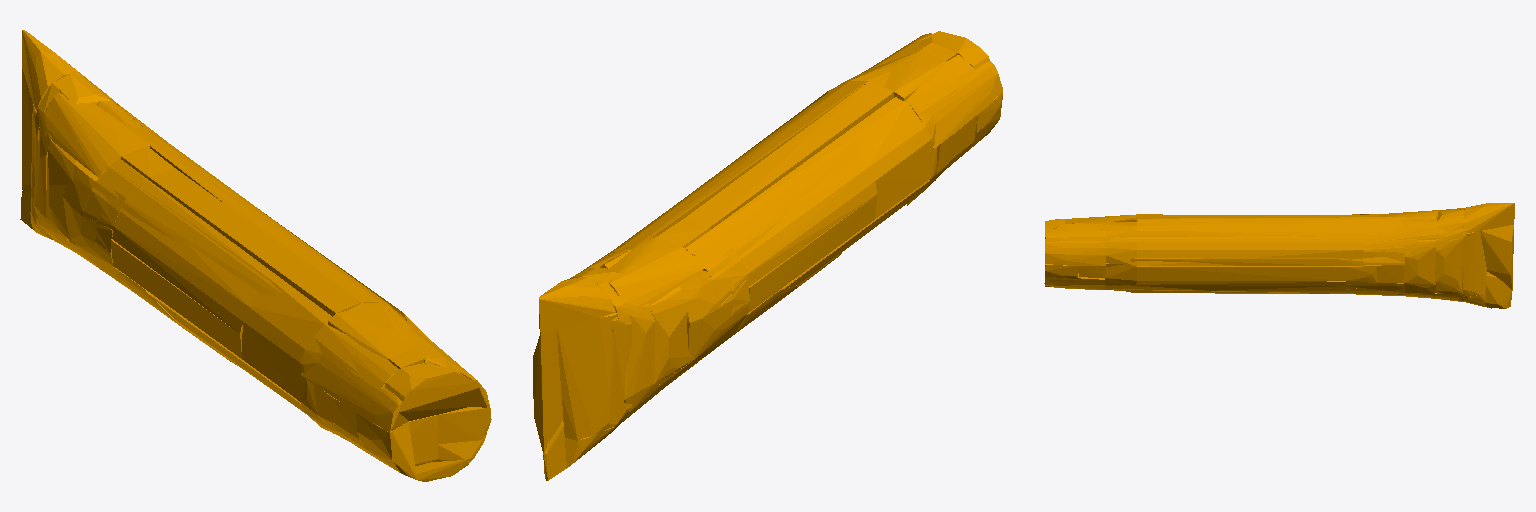
robot.urdf — tube-wasabi:
<?xml version="1.0" ?>
<robot name="tube-wasabi">
  <link name="baseLink">
    <contact>
      <lateral_friction value="1.0"/>
      <inertia_scaling value="3.0"/>
    </contact>
    <inertial>
      <origin rpy="0 0 0" xyz="0.000 0.000 0.000"/>
       <mass value=".1"/>
       <inertia ixx="1" ixy="0.0" ixz="0.0" iyy="1" iyz="0.0" izz="1"/>
    </inertial>
    <visual>
      <origin rpy="0 0 0" xyz="0 0 0"/>
      <geometry>
        <mesh filename="tube/tube-wasabi.obj" scale="1.0 1.0 1.0"/>
      </geometry>
    </visual>
    <collision>
      <origin rpy="0 0 0" xyz="0 0 0"/>
      <geometry>
        <mesh filename="../collision/tube/tube-wasabi.obj" scale="1.0 1.0 1.0"/>
      </geometry>
    </collision>
  </link>
</robot>
        

--- Render facts (derived) ---
Views: 3 orthographic renders of the robot side by side, from view 1: azimuth 30°, elevation 25°; view 2: azimuth 150°, elevation 25°; view 3: azimuth 270°, elevation 25°.
Model tube-wasabi with 1 links and 0 joints (none), rooted at baseLink, posed every joint at zero.
Visible links, largest first — view 1: baseLink; view 2: baseLink; view 3: baseLink.
Link boxes in pixels (x1=…): baseLink: x1=20, y1=30, x2=491, y2=481; baseLink: x1=533, y1=31, x2=1002, y2=480; baseLink: x1=1044, y1=203, x2=1514, y2=308.
Bounding box of the posed robot: 0.0243 × 0.143 × 0.0354 m (x, y, z).
1 mesh visuals loaded from 1 distinct referenced files (1 OBJ).